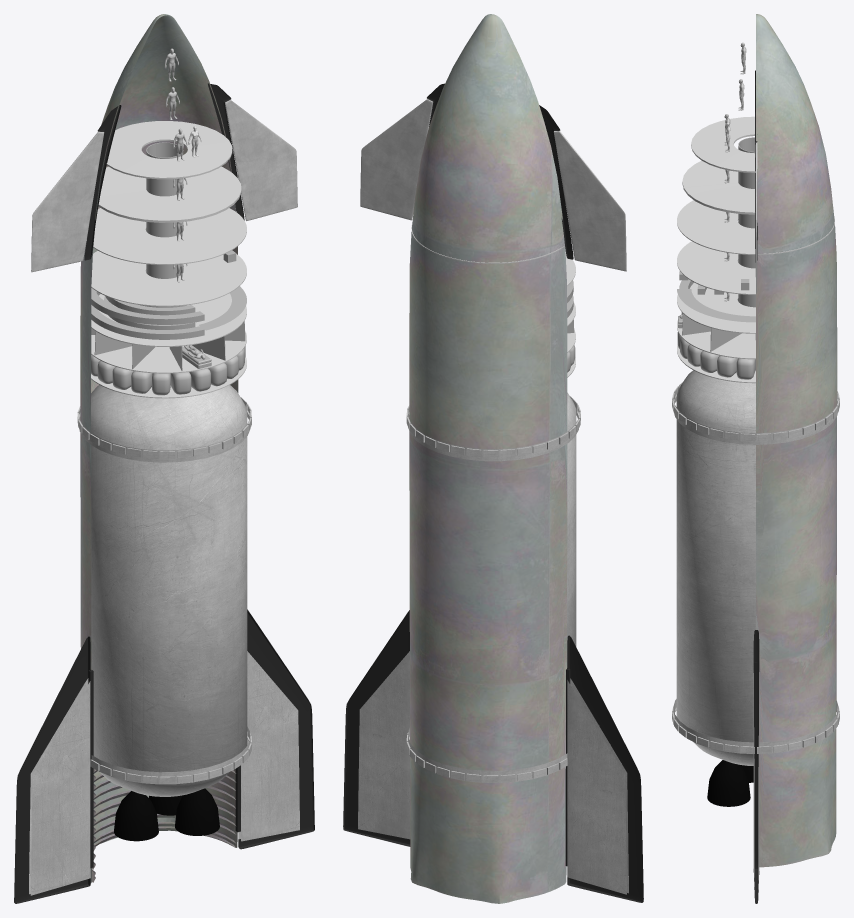
File: starship-09.glb
The picture shows the model from 3 angles, left to right: view 1: azimuth 30°, elevation 25°; view 2: azimuth 150°, elevation 25°; view 3: azimuth 270°, elevation 25°; orthographic projection. The views are drawn at different scales.
Parts seen in each view (by area): view 1: Tank, Bottom Flaps, Body Back, Top Flaps, Floor.006, Floor.005, Cylinder.002, Cylinder.010, Cube.002, Ring, Floor.007, Top Fairing (+11 smaller); view 2: Body Back, Bottom Flaps, Top Flaps, Ring, Tank, Ring.001, Top Fairing; view 3: Body Back, Tank, Floor.006, Floor.005, Cylinder.002, Cylinder.010, Ring, Ring.001, Floor.001, Engine.002, Cube.002, Bottom Flaps (+7 smaller).
Part boxes in pixels (box(x1,y1,x2,y2)): Tank: box(91, 385, 247, 796); Bottom Flaps: box(14, 609, 314, 903); Body Back: box(80, 14, 238, 883); Top Flaps: box(31, 99, 297, 272); Floor.006: box(86, 208, 246, 264); Floor.005: box(91, 251, 246, 306); Cylinder.002: box(98, 166, 241, 222); Cylinder.010: box(106, 121, 232, 179); Cube.002: box(91, 346, 245, 395); Ring: box(77, 397, 251, 462); Floor.007: box(91, 330, 246, 373); Top Fairing: box(84, 83, 244, 260); Body Back: box(409, 14, 567, 903); Bottom Flaps: box(343, 610, 643, 902); Top Flaps: box(360, 99, 626, 271); Ring: box(406, 396, 580, 461); Tank: box(567, 392, 576, 667); Ring.001: box(406, 728, 567, 782); Top Fairing: box(427, 83, 573, 259); Body Back: box(756, 14, 837, 867); Tank: box(676, 370, 755, 765); Floor.006: box(677, 200, 834, 254); Floor.005: box(677, 241, 755, 294); Cylinder.002: box(682, 160, 754, 214); Cylinder.010: box(691, 116, 755, 172); Ring: box(672, 382, 839, 444); Ring.001: box(672, 699, 839, 753); Floor.001: box(677, 282, 755, 333); Engine.002: box(707, 760, 750, 806); Cube.002: box(677, 332, 755, 379); Bottom Flaps: box(753, 630, 759, 903).
Size of the model in its own units: 18.03 by 48.92 by 9.08.
Materials: 8 (2 with a texture image).
